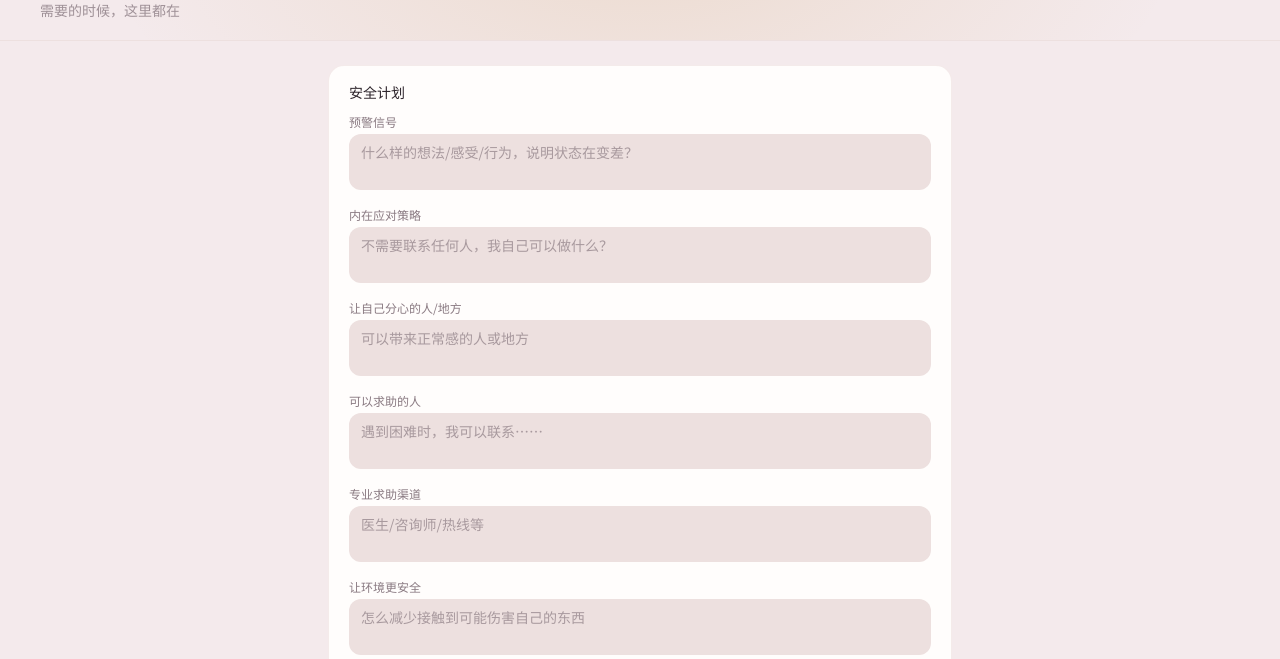
Test: Support › saves the safety plan and shows a confirmation
In the text box with placeholder "什么样的想法/感受/行为，说明状态在变差？": point(640, 162) [349, 134, 931, 190], type "开始失眠"
(page scrolled)
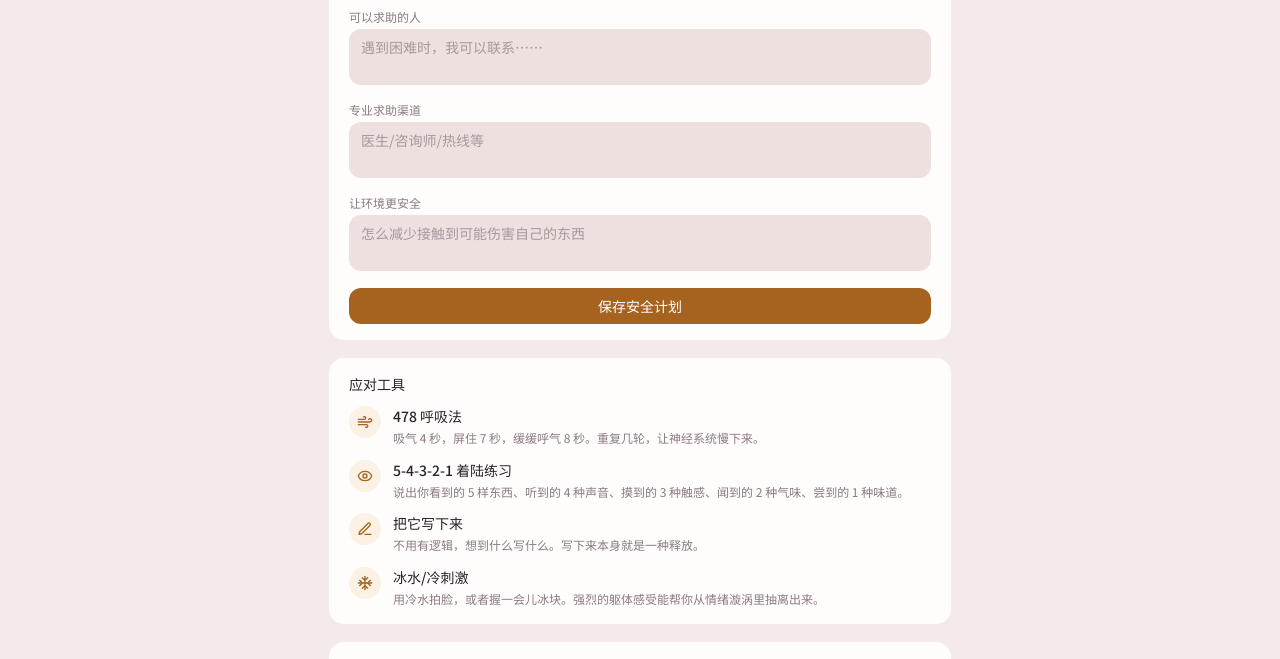
Click the button "保存安全计划": point(640, 306) [349, 288, 931, 324]
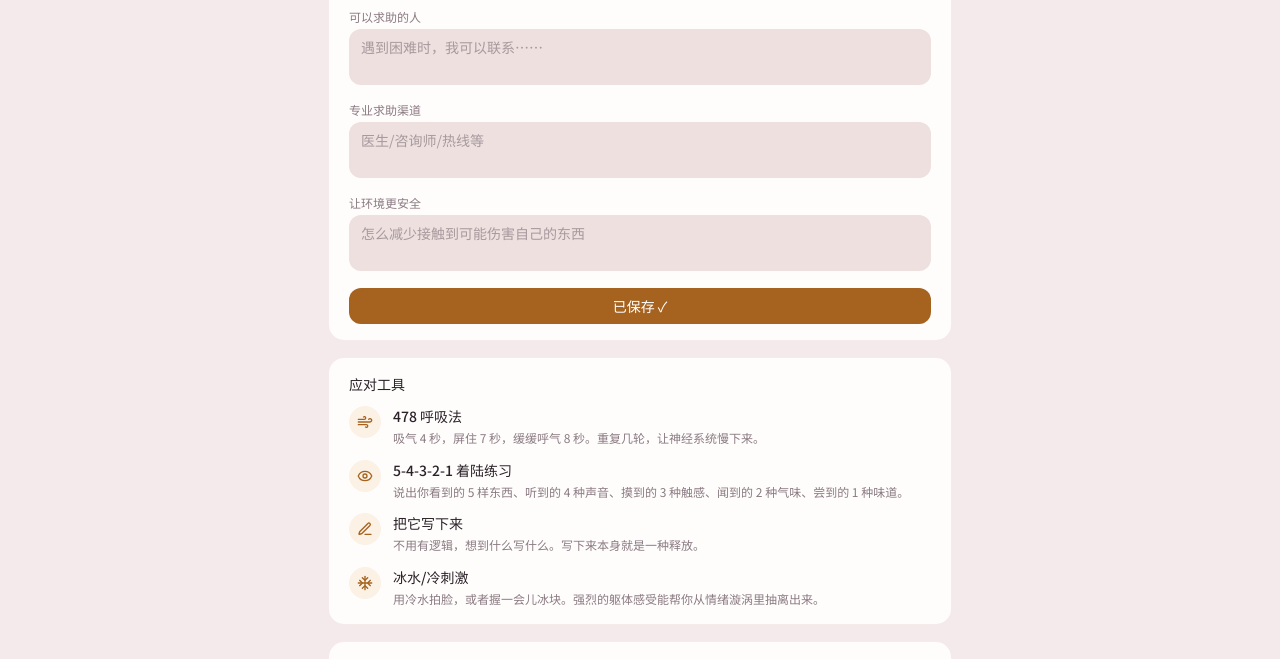
Result: the button "已保存 ✓" is shown at [349, 288, 931, 324]
